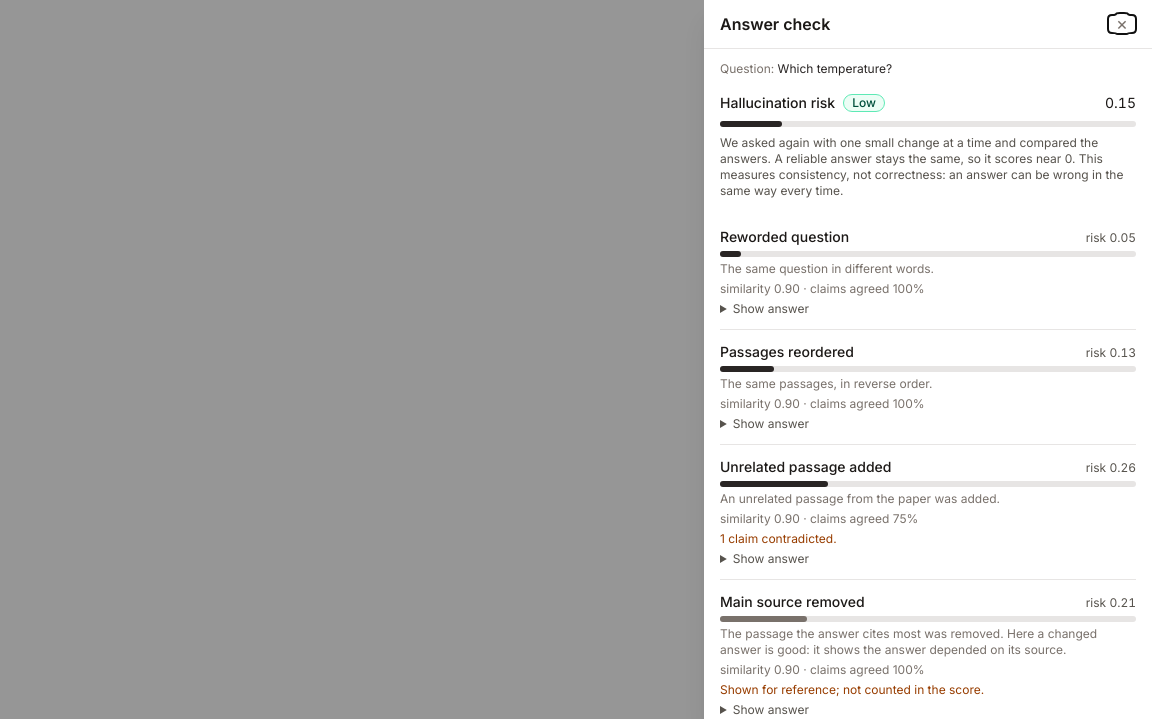
DiagnosticsDrawer › lets the reader see the reworded question and the answer it produced
This screenshot has width=1152, height=719.
Click the heading "Show answer" below "Reworded question" at (771, 308), box [733,301,809,316]
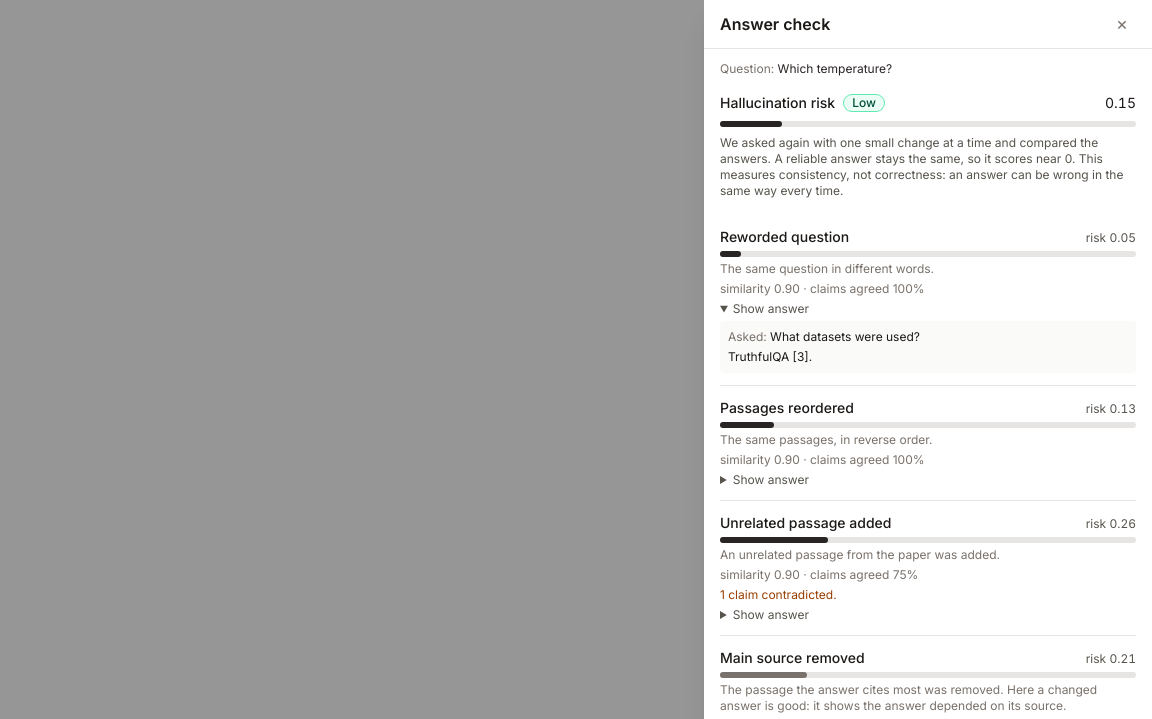
Now the text "What datasets were used?" is shown, box [770,329,920,344]
Now the text "TruthfulQA [3]." is shown, box [728,349,812,364]
